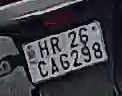2: (69, 47, 81, 67), (67, 31, 78, 50)
6: (75, 27, 89, 46), (58, 53, 71, 71)
8: (90, 40, 103, 60)
9: (81, 45, 92, 66)
A: (49, 57, 59, 74)
C: (34, 59, 49, 78)
H: (36, 39, 50, 59)
R: (48, 36, 61, 55)
